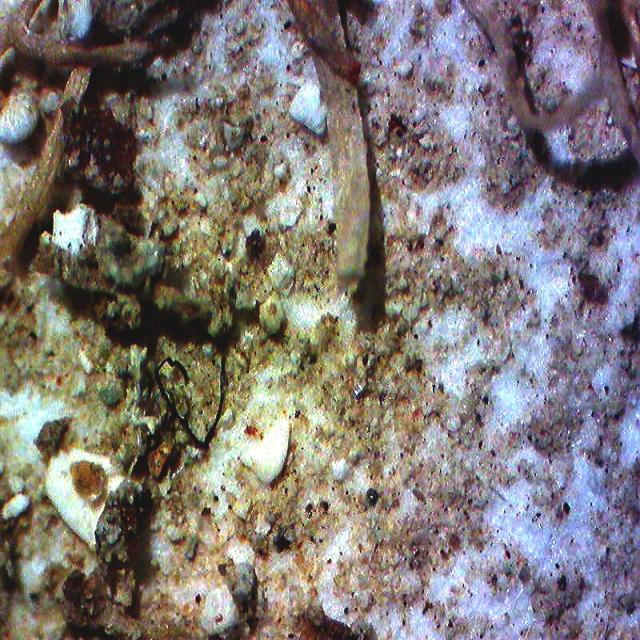microplastic: (156, 353, 226, 445)
